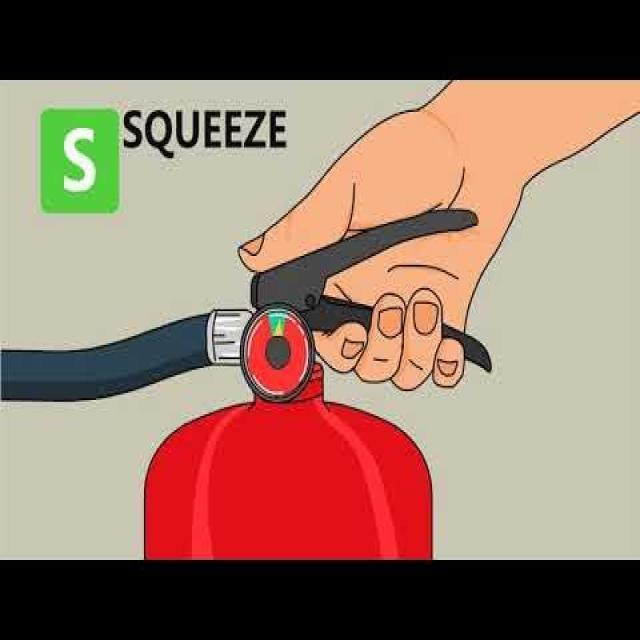pressure gauge: (241, 306, 314, 401)
